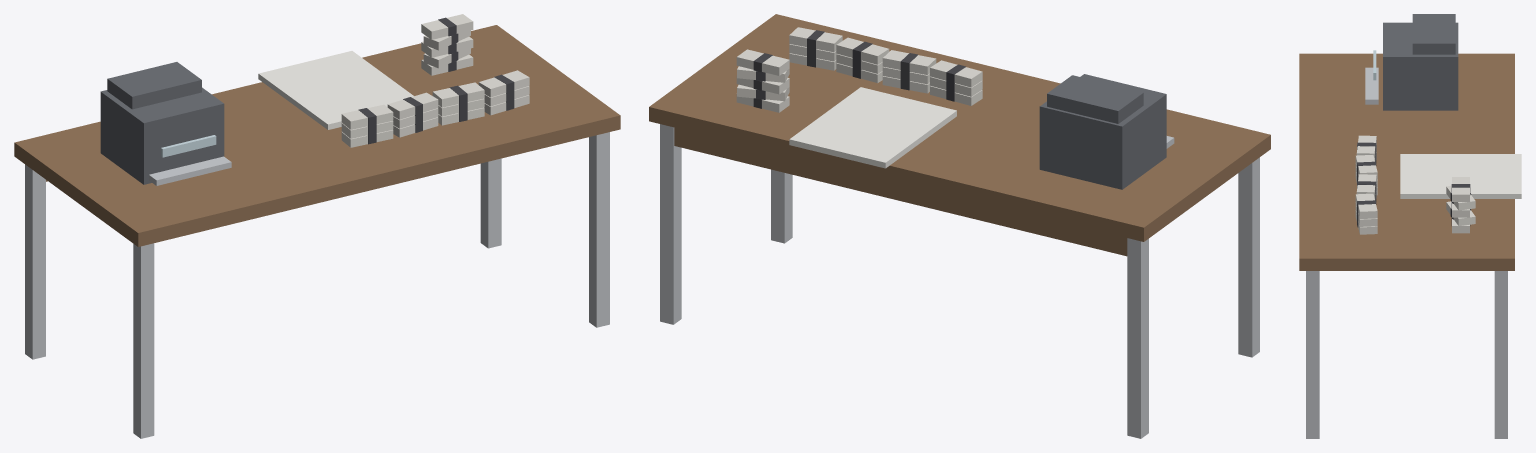
File: bank-vault-heist-kit-counting-table-eef5167c__25070.glb
The picture shows the model from 3 angles, left to right: view 1: azimuth 30°, elevation 25°; view 2: azimuth 150°, elevation 25°; view 3: azimuth 270°, elevation 25°; orthographic projection. The views are drawn at different scales.
Parts seen in each view (by area): view 1: counting-table; view 2: counting-table; view 3: counting-table.
Part boxes in pixels (<box>): counting-table: <box>14,14,620,438</box>; counting-table: <box>649,14,1270,438</box>; counting-table: <box>1299,14,1521,438</box>.
Bounding box in the file's own units: 1.8 × 1.02 × 0.8249.
